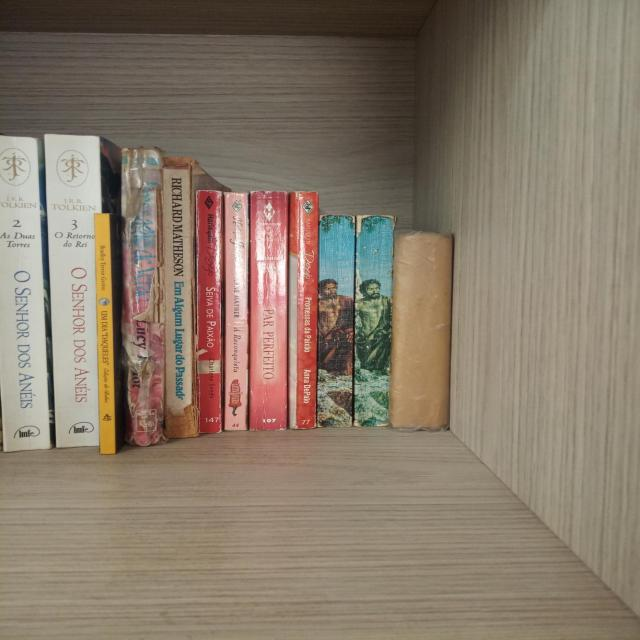book: (0, 138, 39, 447), (124, 148, 156, 442), (55, 138, 85, 442), (252, 196, 288, 427), (400, 241, 439, 431), (162, 164, 188, 444), (361, 216, 388, 425), (319, 217, 346, 426), (197, 191, 216, 434), (226, 190, 245, 433), (294, 191, 313, 426), (98, 217, 112, 450)
